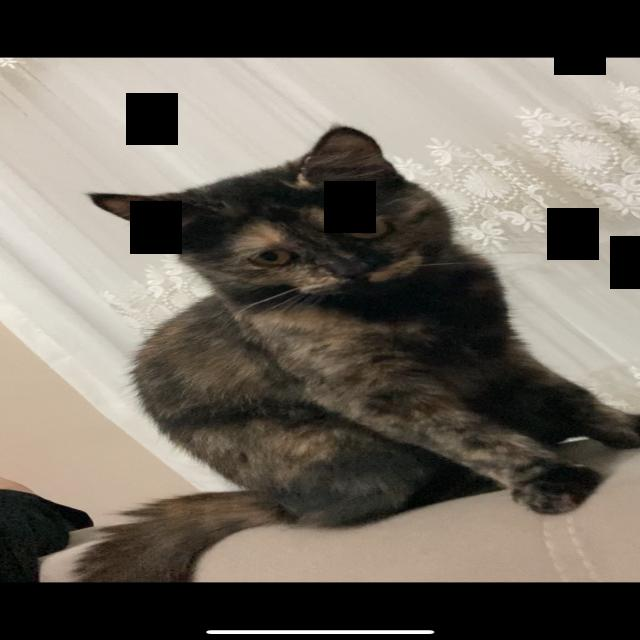authorized: (37, 124, 637, 582)
